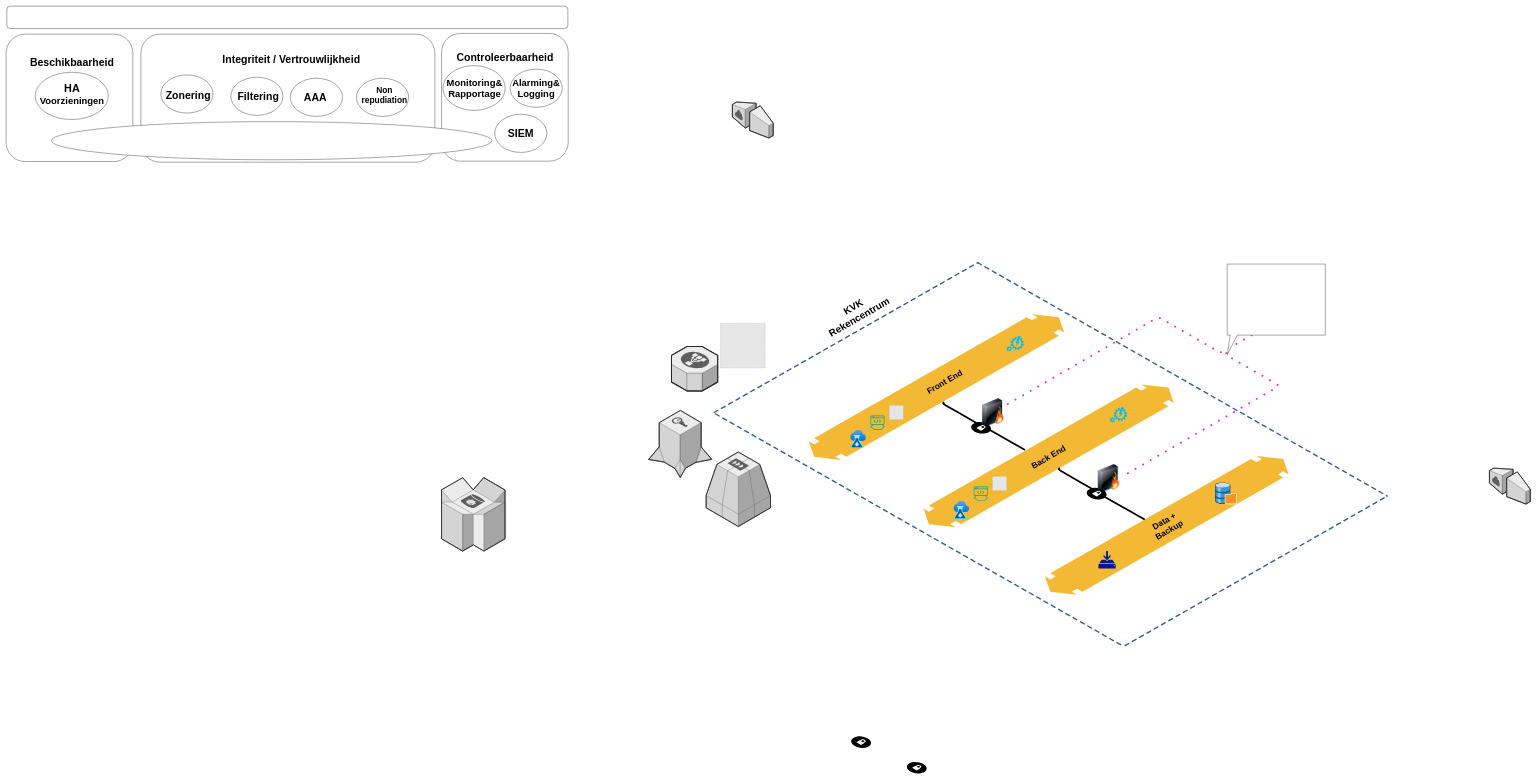
Image size: 1537x780. Some labels were removed from this diagram. Grey dashed boxes stand in for pictures. The centre of each missing label's shape, as x and y in pixels:
Business vraagstuk: "Wat zijn de security functies?": (x=1276, y=309)
IB Functies: (x=287, y=17)
Vastleggen van Gebeurtenissen: (x=271, y=140)
